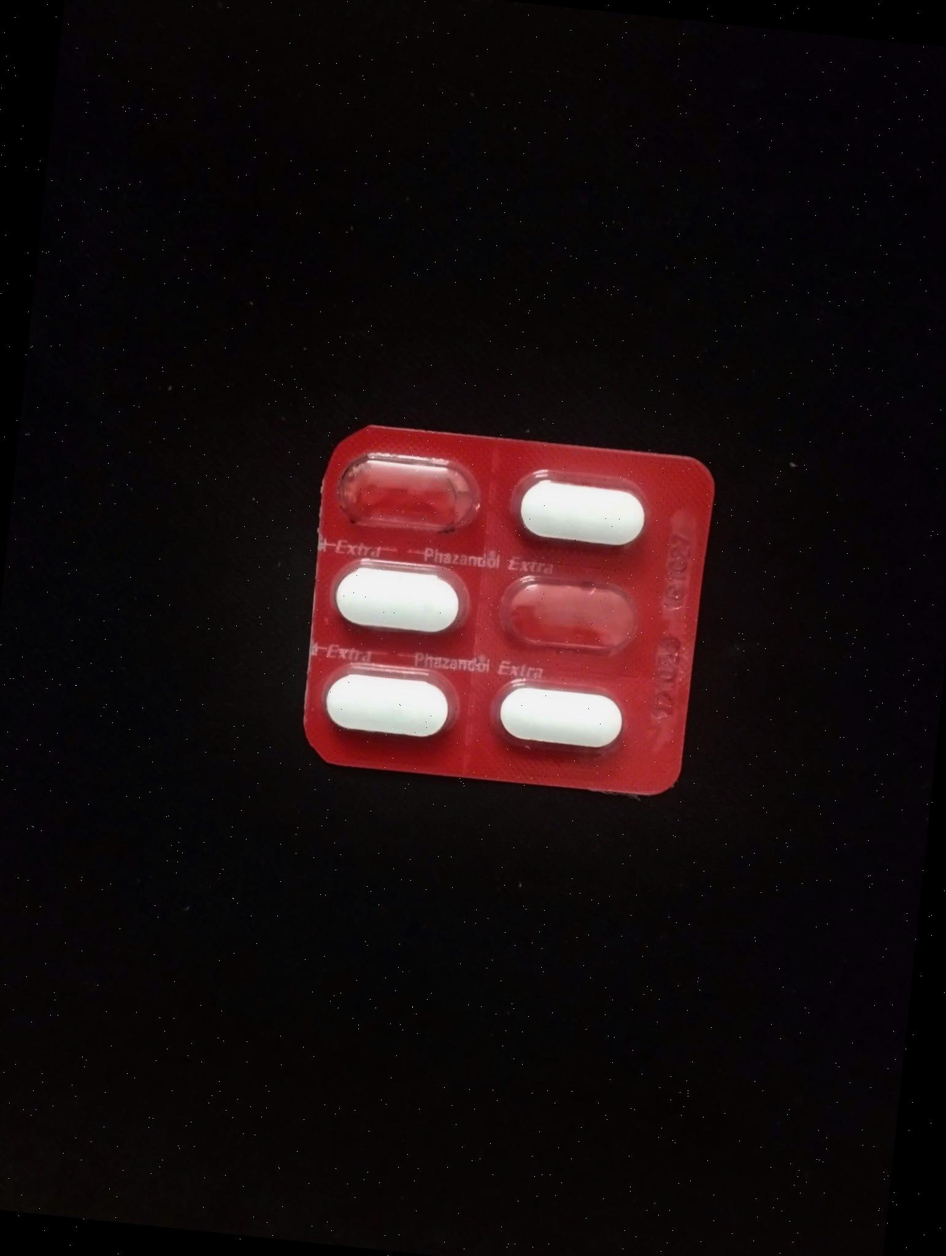Empty: (339, 448, 487, 543), (494, 565, 633, 662)
Full: (505, 470, 670, 557), (325, 552, 470, 645), (317, 662, 466, 751), (482, 680, 636, 757)
